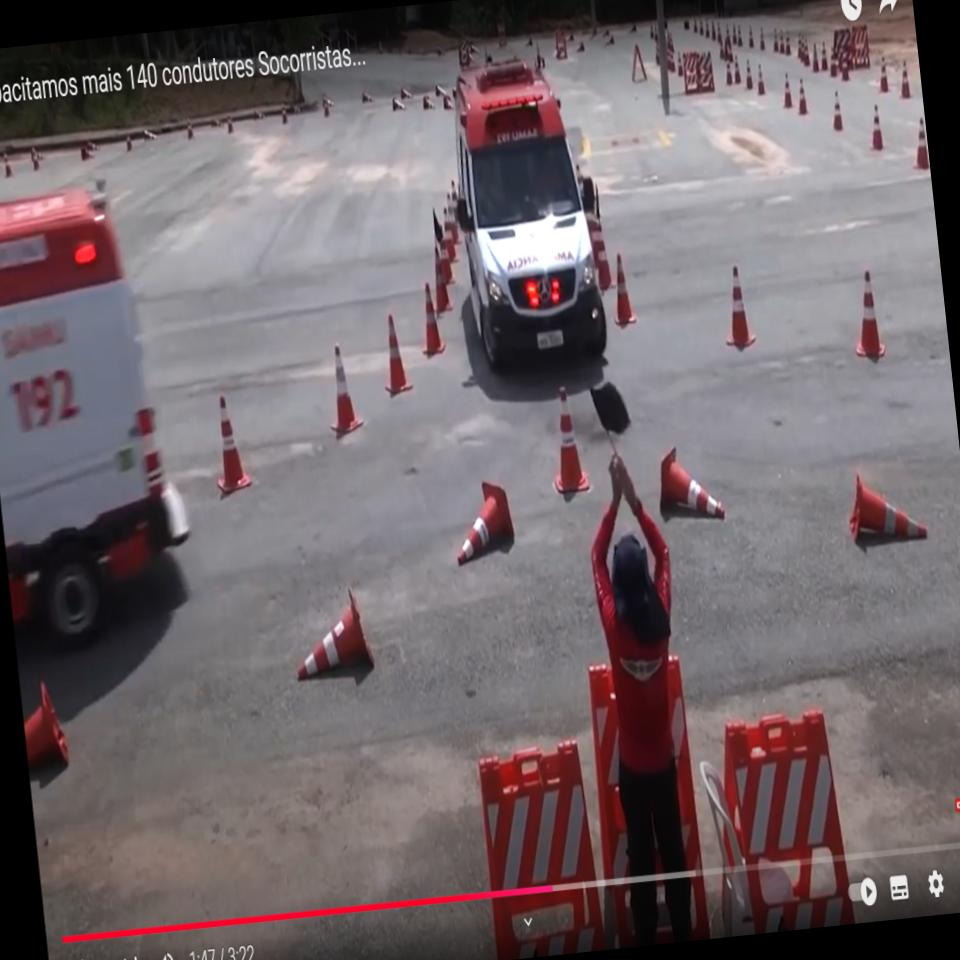bombeiro: (441, 54, 612, 372)
